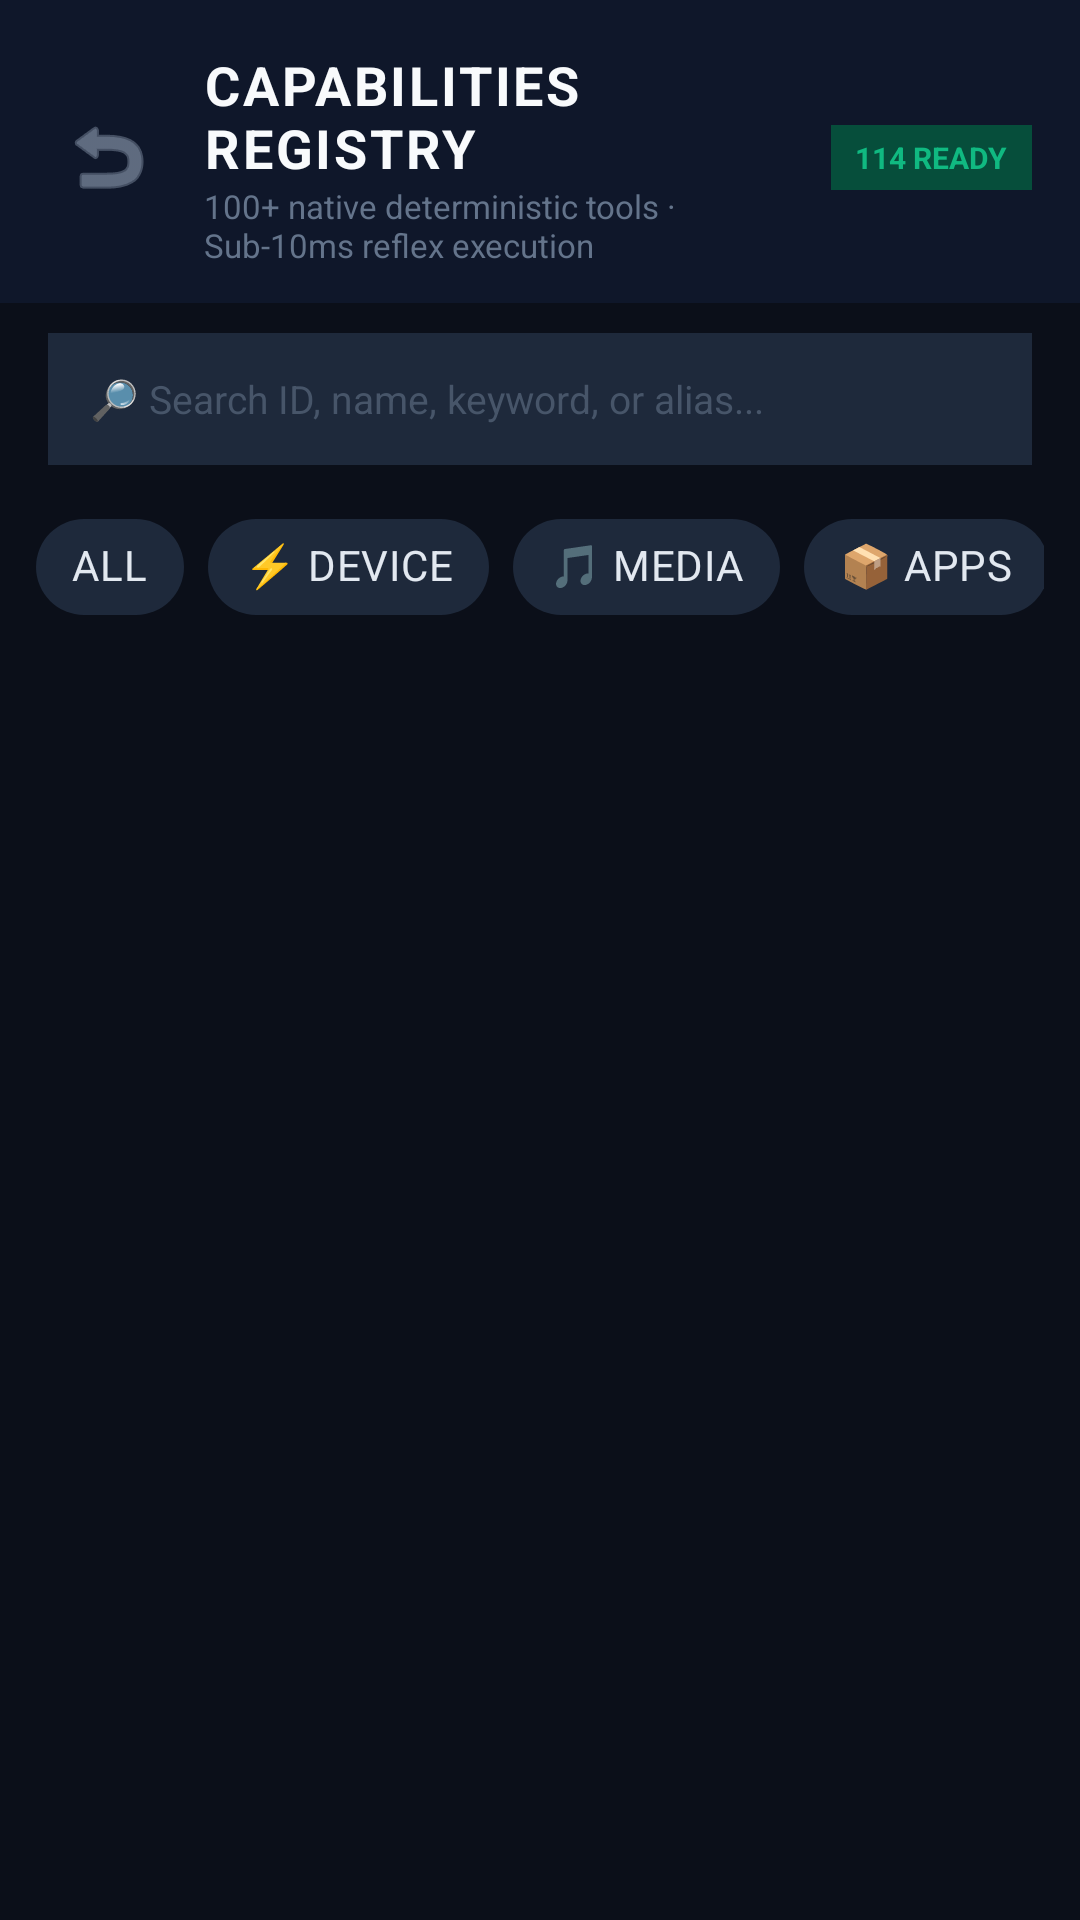

Icons on this 1080*1920 Android screen, each with the point to tap as (x=x, y=y):
Back: (x=109, y=158)
